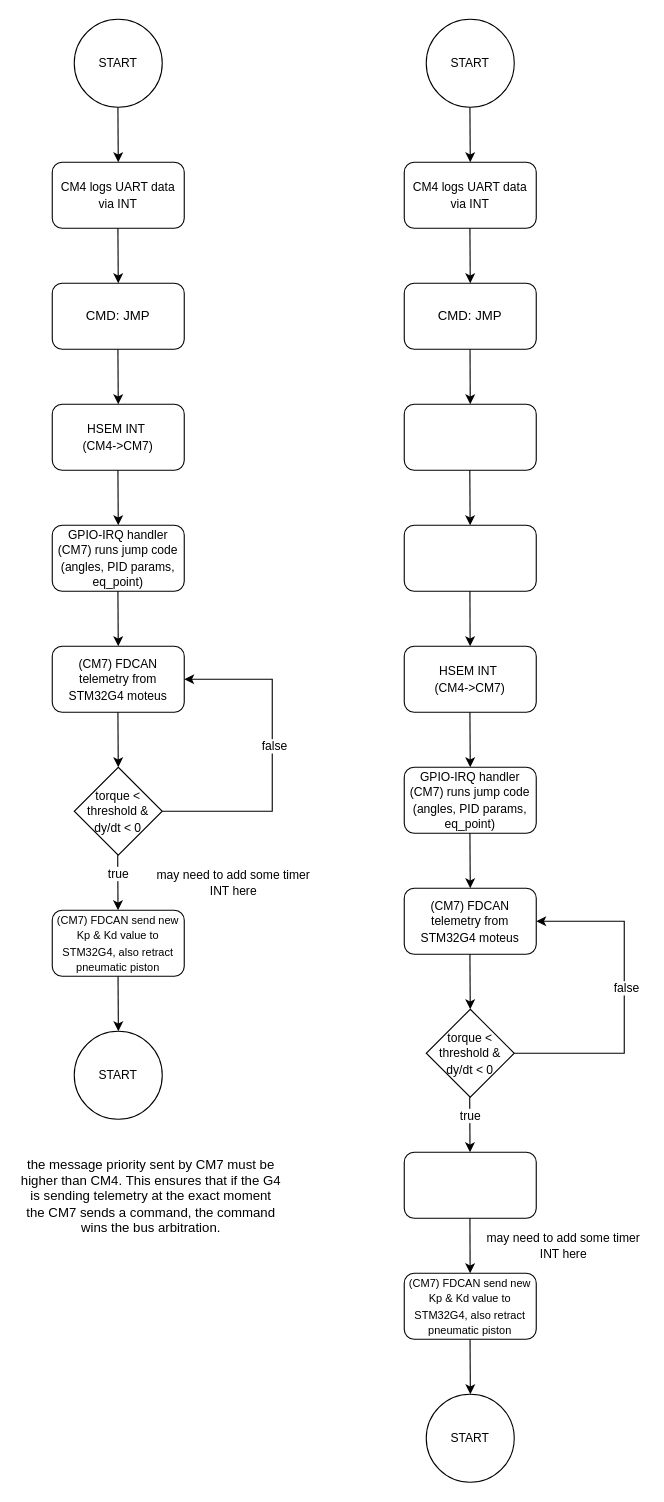
The diagram is 664 pixels wide and 1502 high, and some of its shapes have lost their labels. The centre of each missing label's shape, as x and y in pixels:
"(CM7) releases pneumatic piston" goes at pixel 469 1184.
"CM4 (read MPX5010 pressure)" goes at pixel 469 436.
"CM4 calculates compensation" goes at pixel 469 557.
